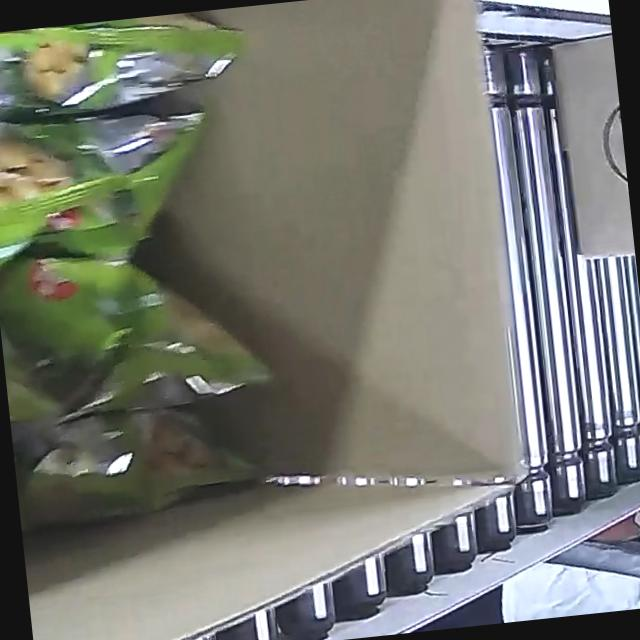yogurt: (0, 4, 309, 536)
